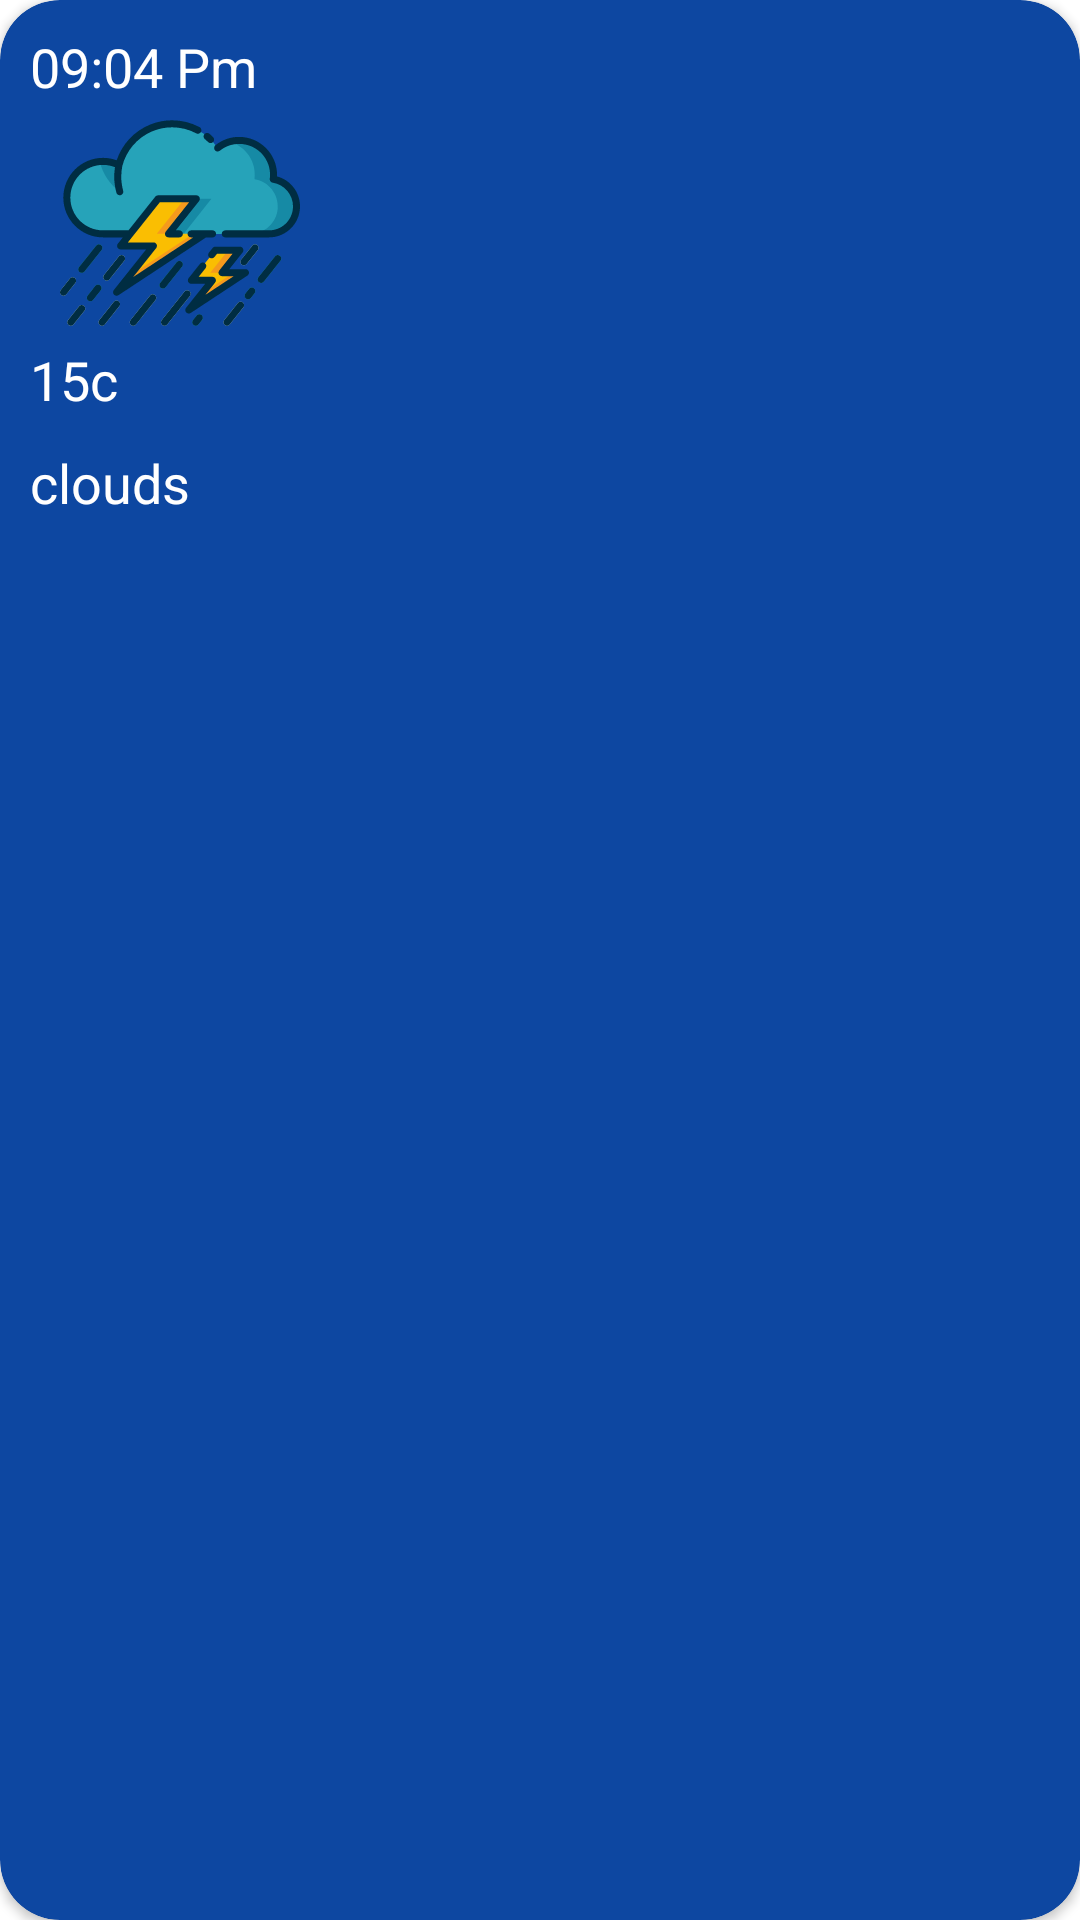

Where icons sit on this 1080×1920 app screen, as (x1, y1, x2, y2):
thunderstorm: (60, 120, 300, 326)
